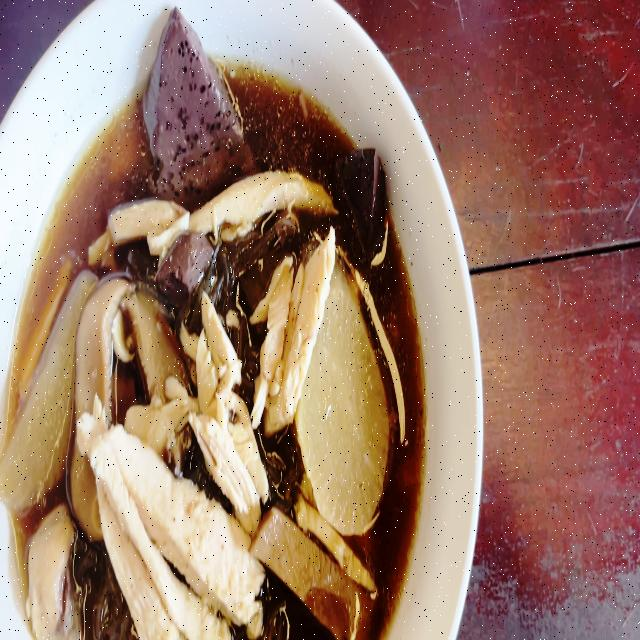boiled_chicken_blood_jelly: (137, 0, 255, 200), (336, 130, 386, 254), (158, 223, 214, 306)
chicken_shredded: (71, 408, 254, 633), (252, 228, 335, 430), (198, 288, 262, 519), (190, 171, 325, 226), (24, 504, 70, 640), (99, 192, 193, 248)
daikon_radish: (0, 261, 85, 504), (304, 295, 389, 528)
noodle: (0, 63, 422, 640)
